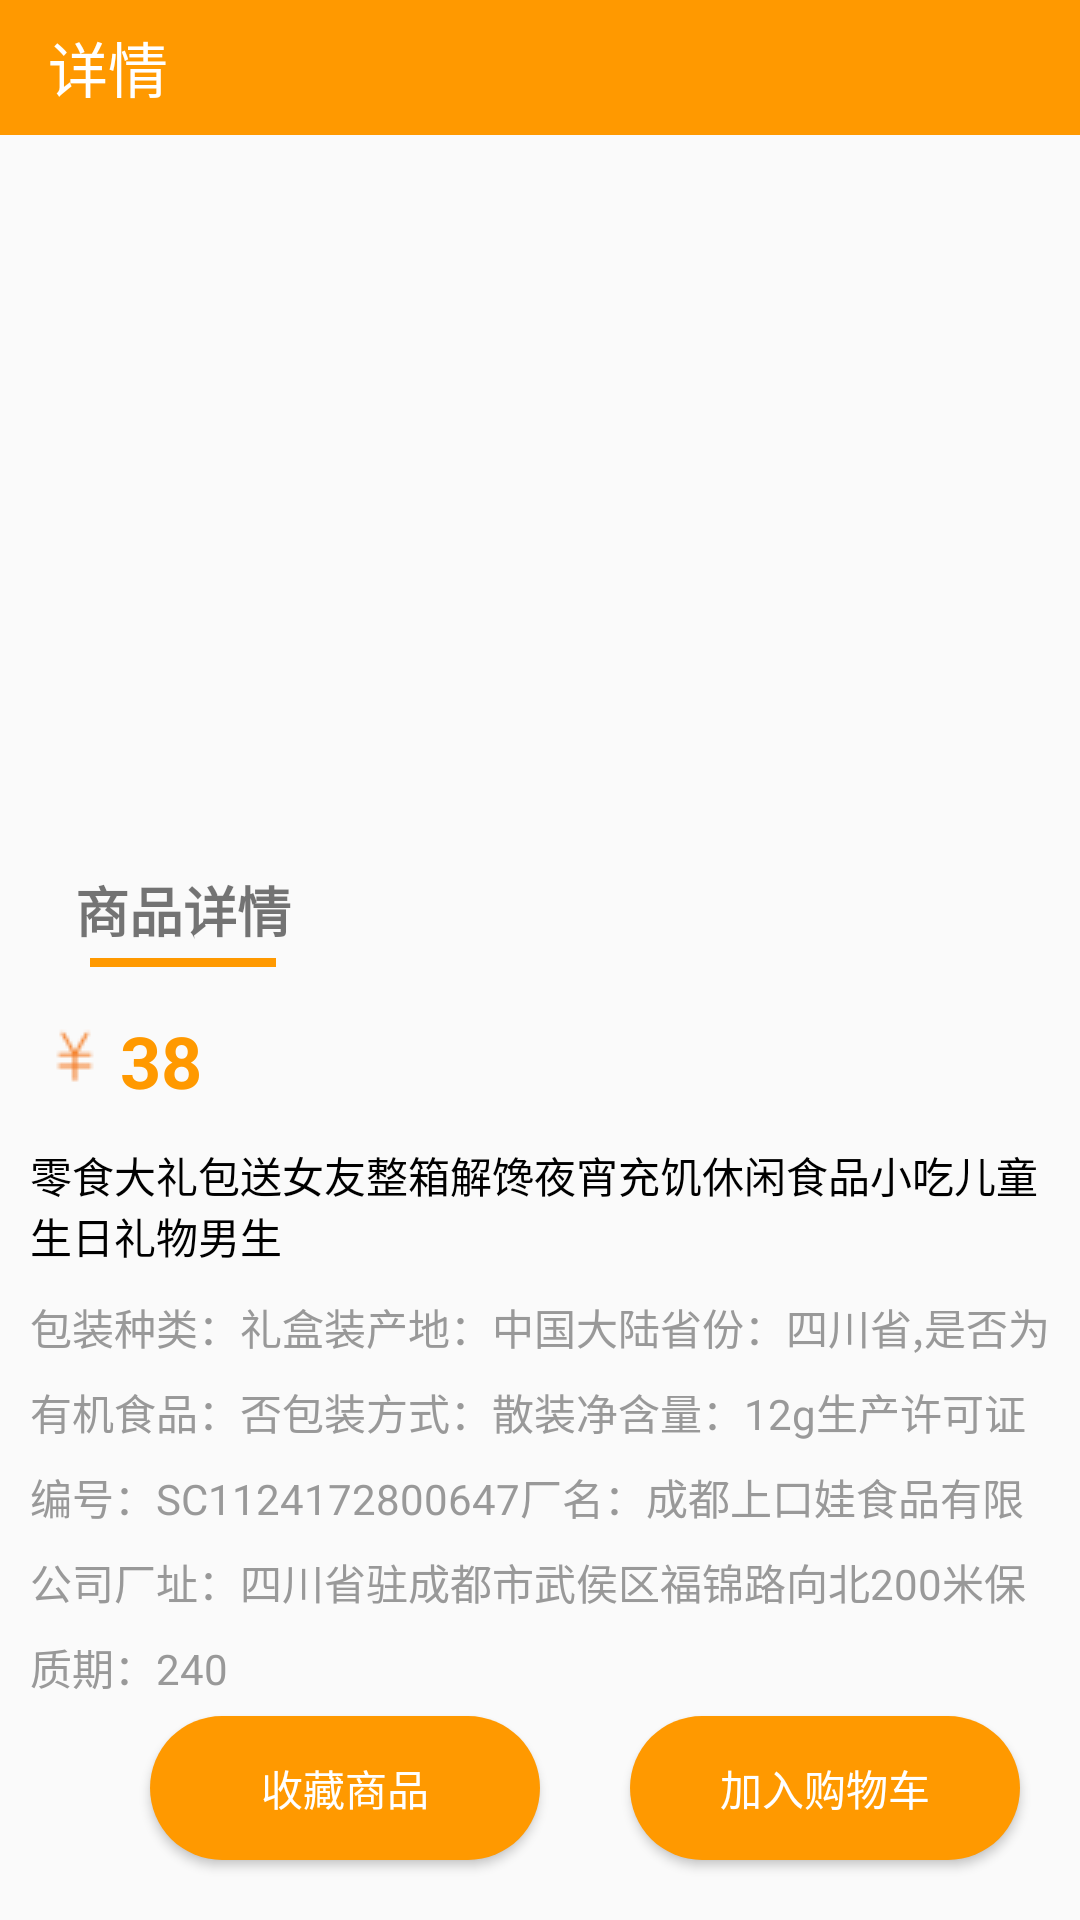

Icon bounding boxes for this 1080px×1920px phone screenshot, format (x1, y1, x2, y2):
money: (57, 1032, 93, 1082)
